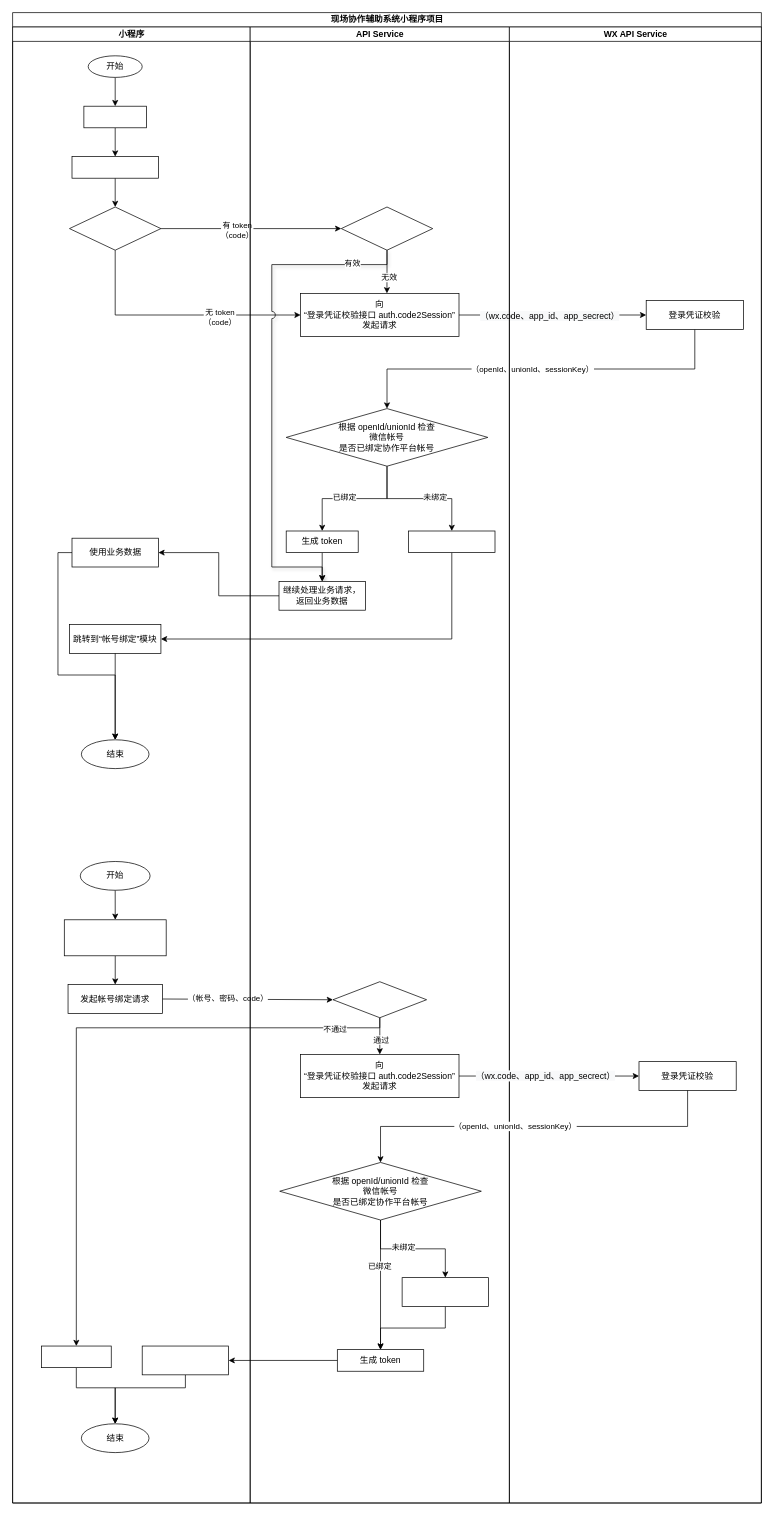
This 774x1516 diagram has some shape labels left out. The centre of each missing label's shape, as x and y in pixels:
"token 是否有效" belongs at [387,228].
"wx.login() 获取 code" belongs at [114,167].
"发起业务请求" belongs at [115,116].
"将微信帐号绑定到 协作平台帐号" belongs at [445,1291].
"提示用户" belongs at [76,1356].
"本地存储/请求头 有无 token" belongs at [115,228].
"用户输入帐号、密码， wx.login() 获取 code" belongs at [115,937].
"跳转到主页" belongs at [185,1360].
"返回“未绑定”标记" belongs at [451,541].
"验证帐号、密码" belongs at [379,999].
